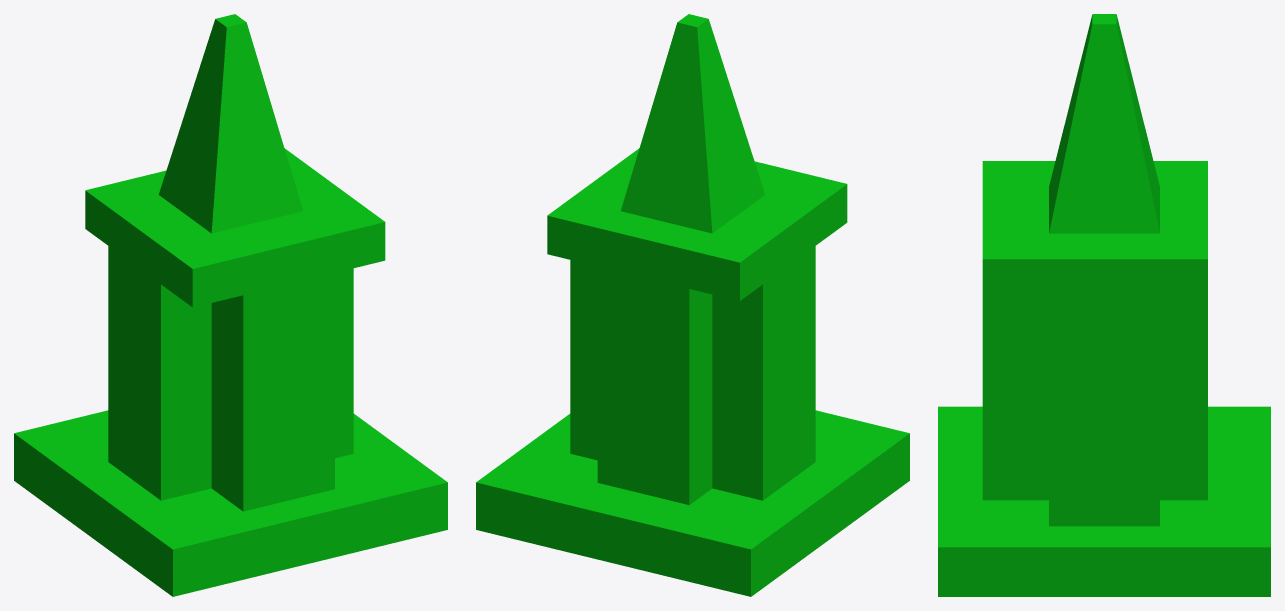
The model's file is player4.obj.
The picture shows the model from 3 angles, left to right: view 1: azimuth 30°, elevation 25°; view 2: azimuth 150°, elevation 25°; view 3: azimuth 270°, elevation 25°; orthographic projection. The views are drawn at different scales.
Visible parts, largest first — view 1: Cube.001; view 2: Cube.001; view 3: Cube.001.
Part boxes in pixels (x1=…): Cube.001: x1=14, y1=14, x2=447, y2=596; Cube.001: x1=476, y1=14, x2=909, y2=596; Cube.001: x1=938, y1=14, x2=1270, y2=596.
Size of the model in its own units: 0.5764 by 0.9703 by 0.5764.
